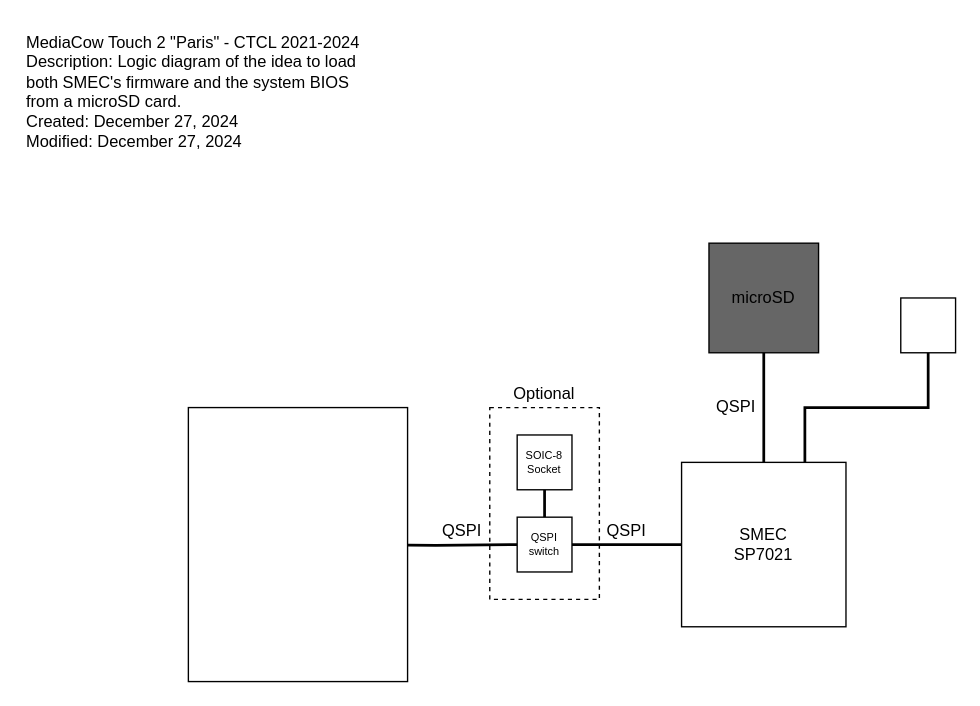
This 980x706 diagram has some shape labels left out. The box of each missing label's shape, as (x1, y1, x2, y2) in pixels:
LattePanda Mu: (187, 406, 408, 682)
Power Button: (899, 297, 956, 353)
